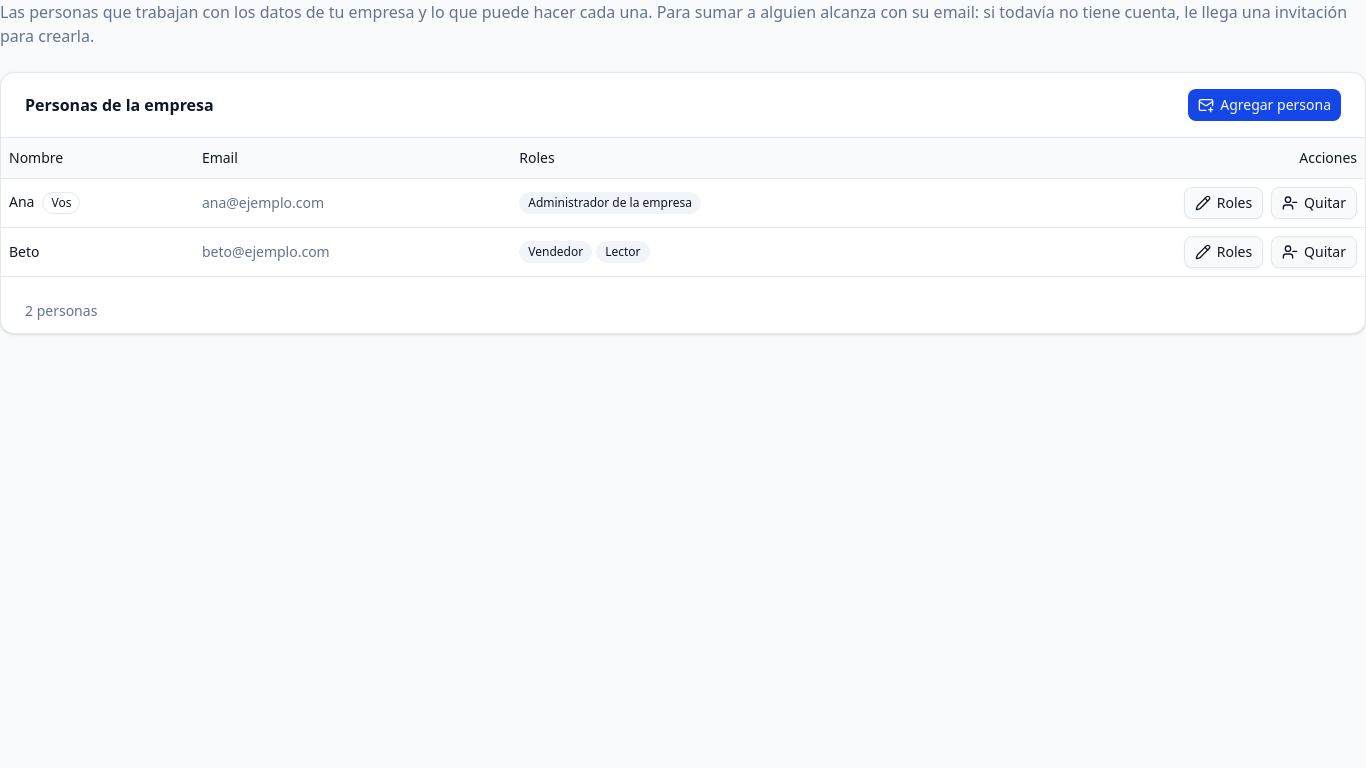
Test: Equipo › no se puede guardar sin ningún rol
The image size is (1366, 768).
Click the button with aria-label "Cambiar roles de Ana" at (1223, 202), box [1184, 186, 1263, 218]
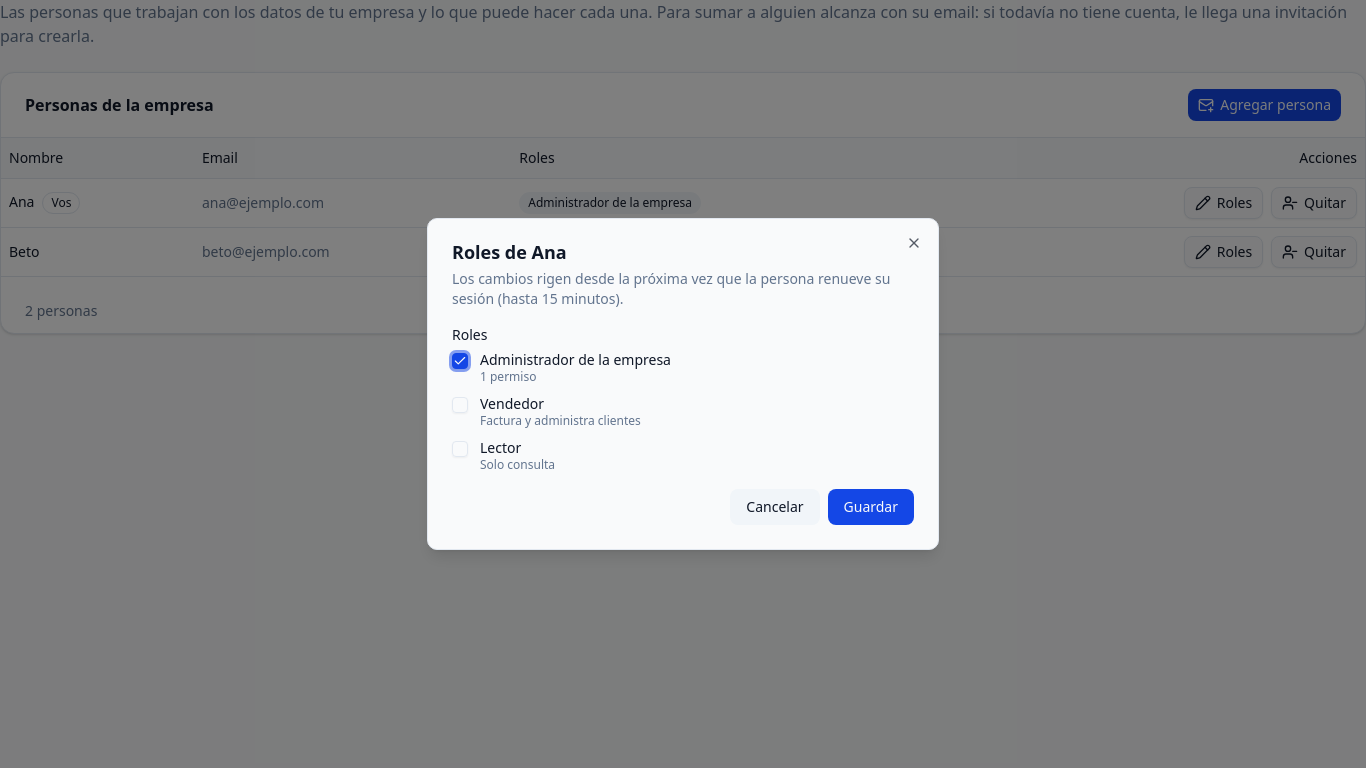
Click the 1st checkbox named "Administrador de la empresa" at (460, 361), box [452, 353, 468, 369]
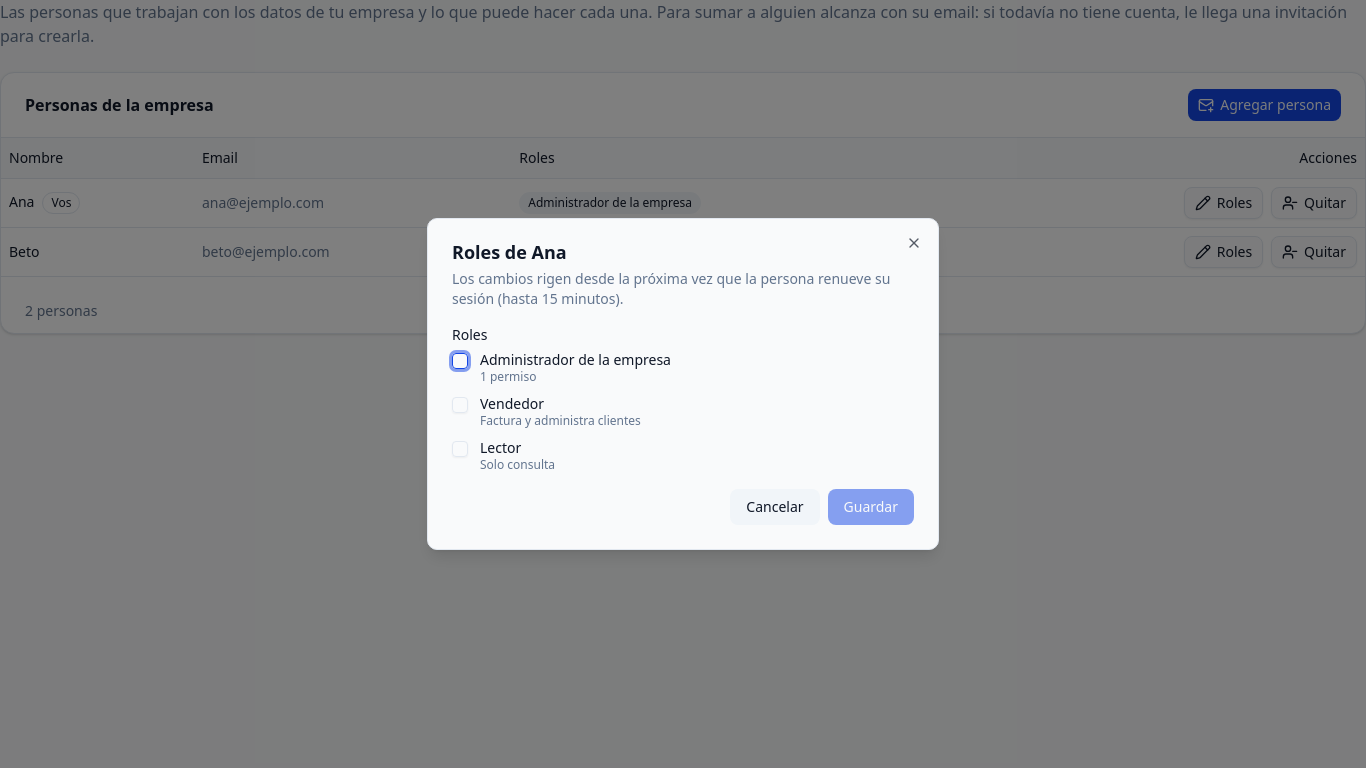
Expected: the button "Guardar" is disabled, [828, 489, 914, 525]
